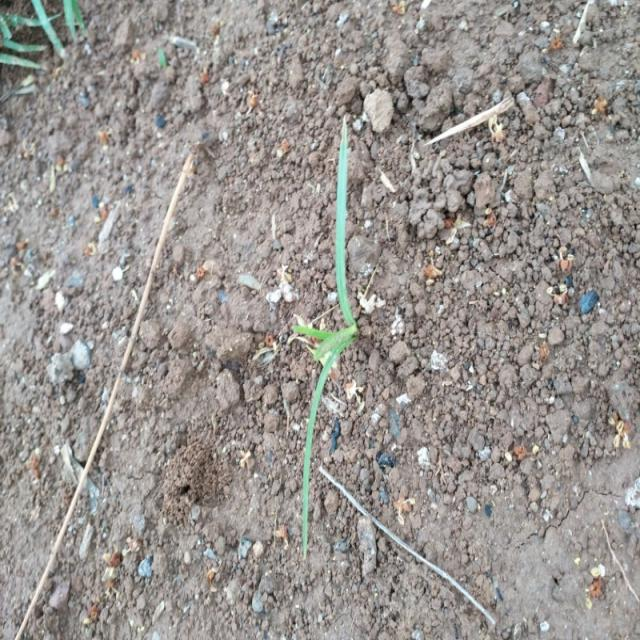sedge: (276, 91, 393, 578)
